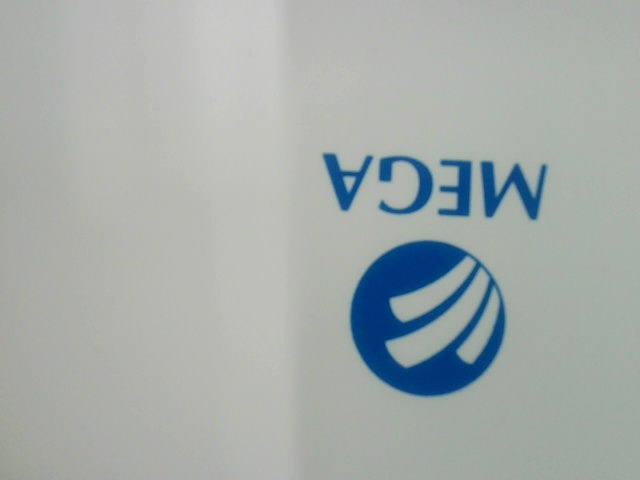AM_ZTEMEGA: (306, 136, 575, 413)
